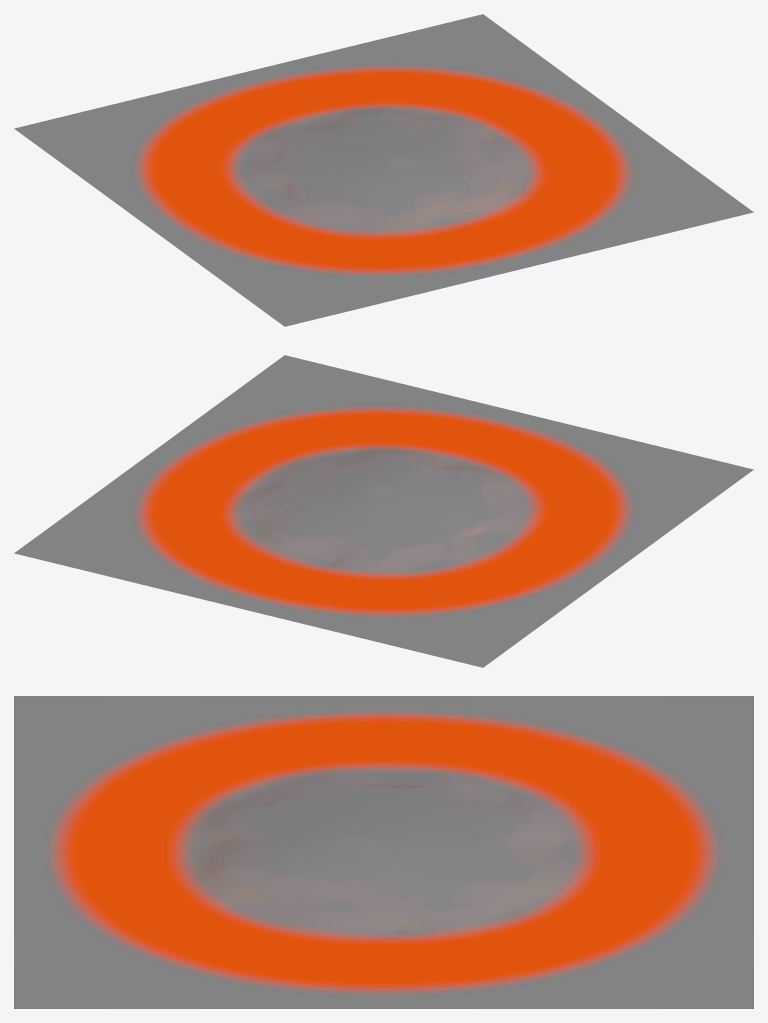
Rendered from Landscape_Terrain.glb.
3 renders of one model, top to bottom at view 1: azimuth 30°, elevation 25°; view 2: azimuth 150°, elevation 25°; view 3: azimuth 270°, elevation 25°, orthographic. The views are drawn at different scales.
Visible parts, largest first — view 1: Landscape_Terrain; view 2: Landscape_Terrain; view 3: Landscape_Terrain.
Boxes of the visible parts, x1,y1,x2,y2 form: Landscape_Terrain: [14, 14, 753, 326]; Landscape_Terrain: [14, 355, 753, 667]; Landscape_Terrain: [14, 696, 753, 1008].
Size of the model in its own units: 126 by 2.84 by 126.
Materials: 1 (1 with a texture image).
